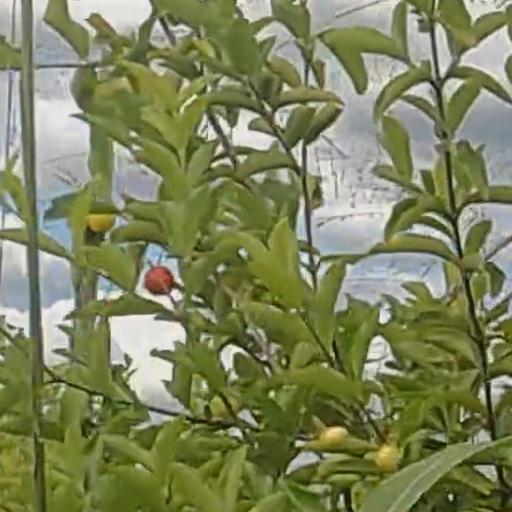acerola_vermelha: (146, 267, 173, 292), (86, 214, 116, 230)
